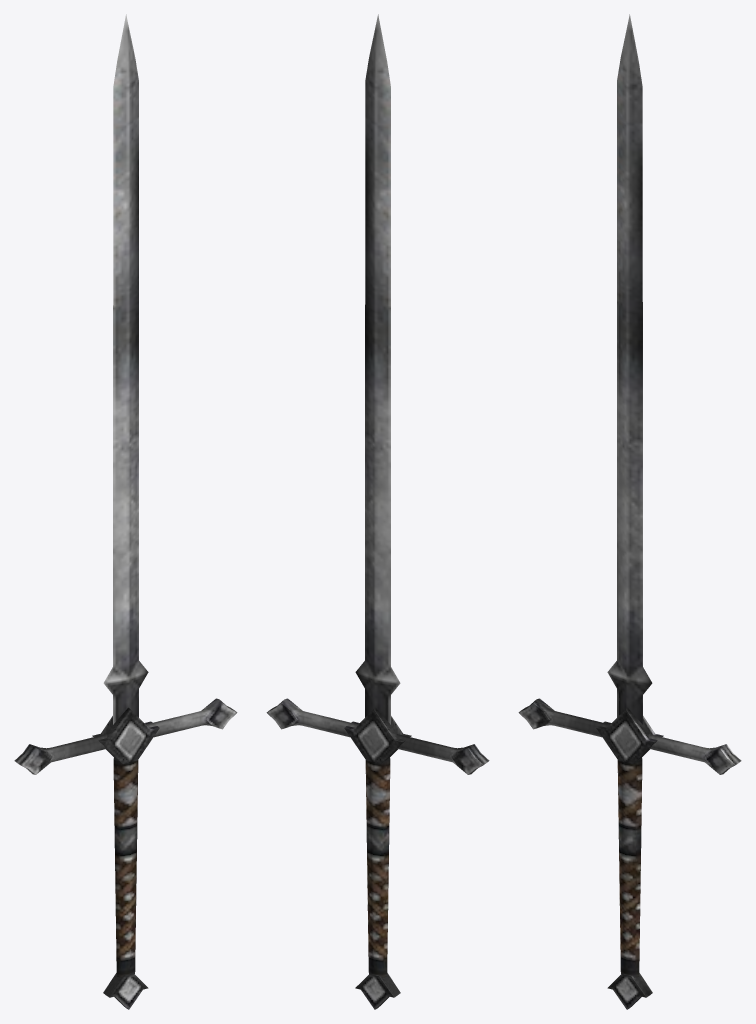
The model's file is Longsword2.fbx.
3 views of the same model, side by side, from view 1: azimuth 30°, elevation 25°; view 2: azimuth 150°, elevation 25°; view 3: azimuth 330°, elevation 25° (orthographic).
Visible parts, largest first — view 1: Blade, Hilt; view 2: Blade, Hilt; view 3: Blade, Hilt.
Boxes of the visible parts, x1,y1,x2,y2 form: Blade: (103, 14, 148, 724); Hilt: (14, 698, 237, 1009); Blade: (355, 14, 400, 724); Hilt: (266, 698, 489, 1009); Blade: (607, 14, 652, 724); Hilt: (518, 698, 741, 1009).
Size of the model in its own units: 39.45 by 173 by 2.79.
